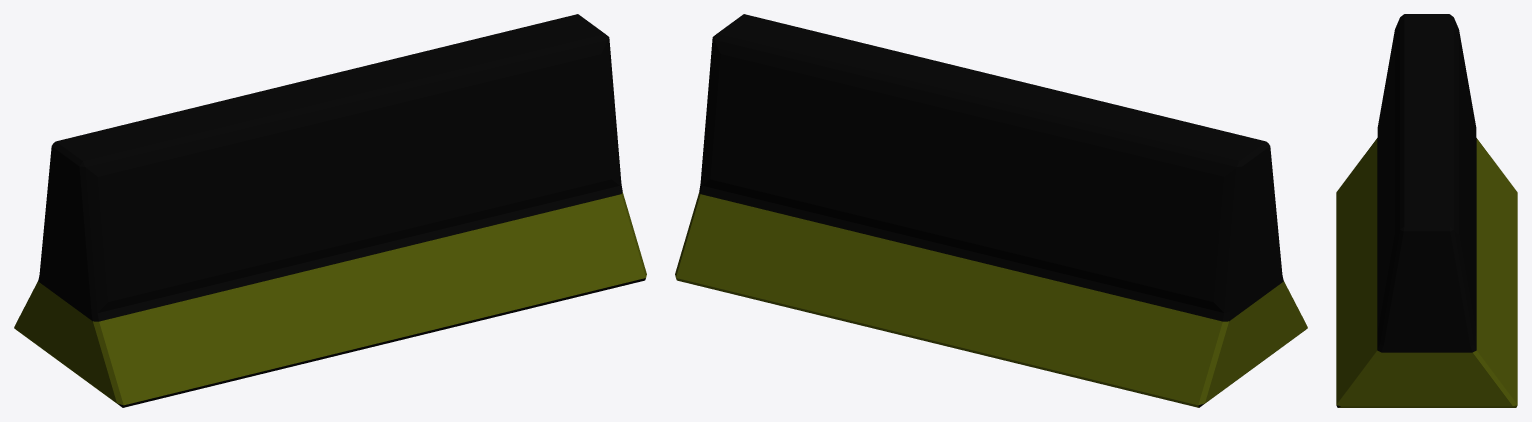
File: barrier black.fbx
3 renders of one model, left to right at view 1: azimuth 30°, elevation 25°; view 2: azimuth 150°, elevation 25°; view 3: azimuth 270°, elevation 25°, orthographic. The views are drawn at different scales.
Visible parts, largest first — view 1: Cube; view 2: Cube; view 3: Cube.
Part boxes in pixels (left/top/right/bottom): Cube: left=14, top=14, right=646, bottom=407; Cube: left=675, top=14, right=1307, bottom=407; Cube: left=1336, top=14, right=1517, bottom=407.
Size of the model in its own units: 275 by 108 by 97.72.
